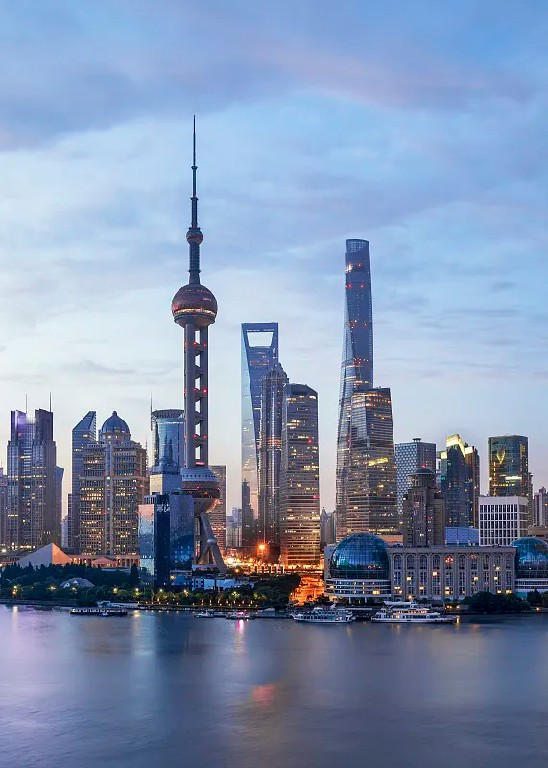Oriental: (171, 115, 224, 567)
